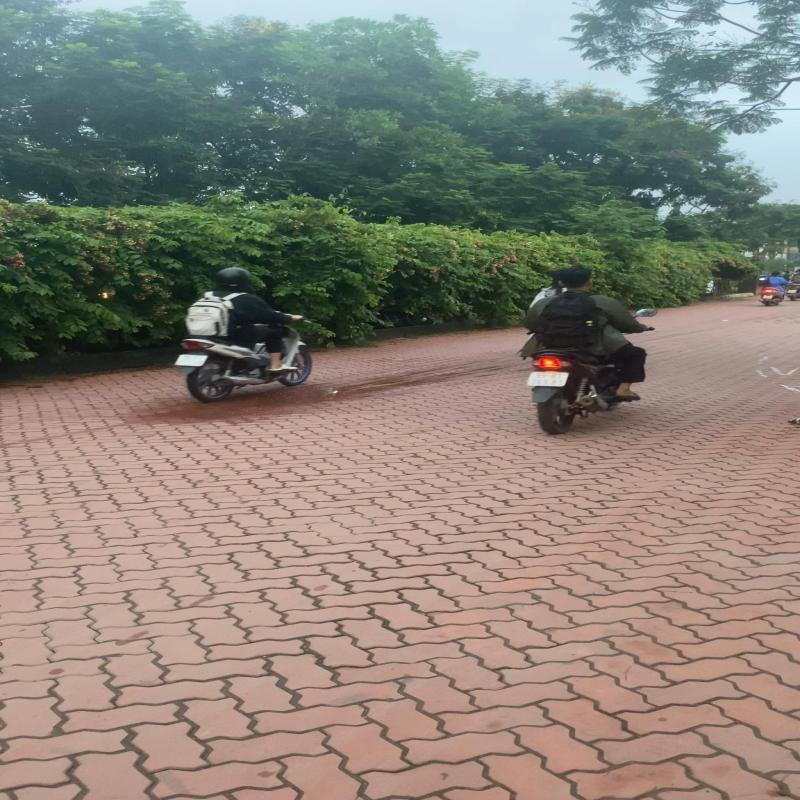licenseplate: (528, 372, 566, 388)
motorcyclist: (516, 263, 663, 436)
nohelmet: (556, 266, 594, 288)
